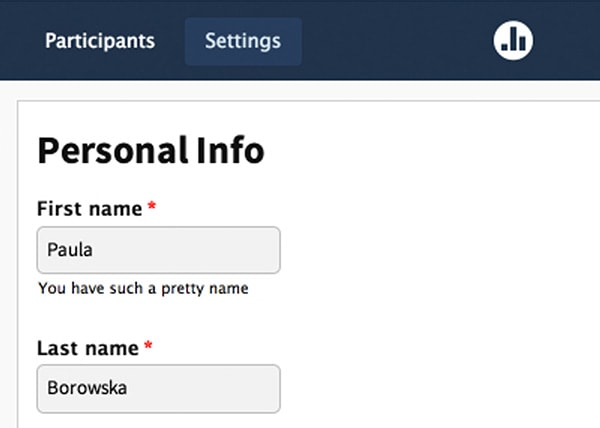_form_: (1, 12, 416, 428)
field: (37, 223, 282, 275), (37, 362, 282, 414)
field_with_label: (35, 200, 287, 278), (35, 340, 287, 417)
